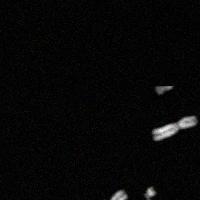chromosome: (153, 116, 197, 140), (101, 189, 126, 200), (144, 187, 156, 198), (143, 199, 166, 200)
